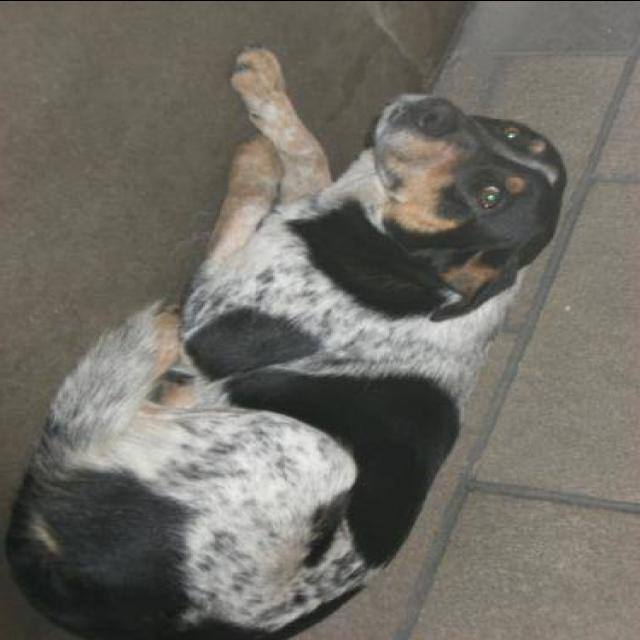dog: (0, 45, 587, 640)
